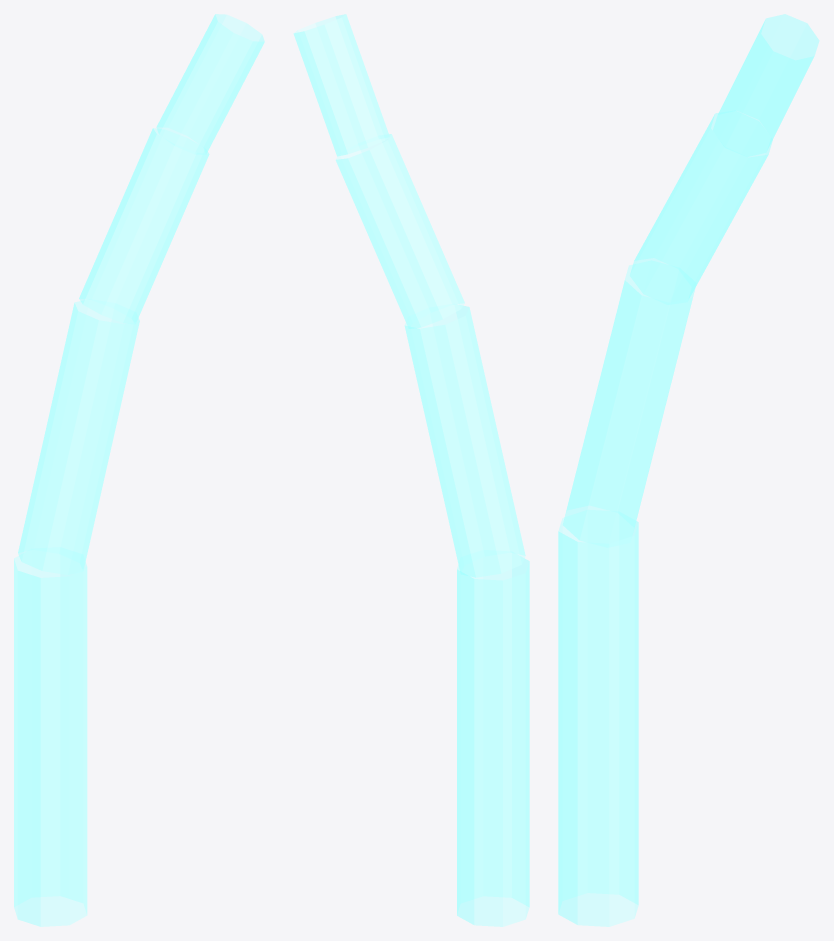
The model's file is gen1429-biomech-late.glb.
3 renders of one model, left to right at view 1: azimuth 30°, elevation 25°; view 2: azimuth 150°, elevation 25°; view 3: azimuth 330°, elevation 25°, orthographic. The views are drawn at different scales.
Visible parts, largest first — view 1: branch_d5, branch_d4, branch_d3, branch_d2; view 2: branch_d5, branch_d4, branch_d3, branch_d2; view 3: branch_d5, branch_d4, branch_d3, branch_d2.
Part boxes in pixels (box(x1,y1,x2,y2)): branch_d5: box(14, 550, 87, 926); branch_d4: box(18, 300, 139, 574); branch_d3: box(79, 128, 209, 324); branch_d2: box(156, 14, 264, 154); branch_d5: box(457, 552, 529, 926); branch_d4: box(404, 304, 525, 577); branch_d3: box(335, 134, 464, 328); branch_d2: box(293, 14, 389, 156); branch_d5: box(558, 510, 638, 926); branch_d4: box(563, 260, 695, 547); branch_d3: box(630, 111, 772, 304); branch_d2: box(713, 14, 819, 156).
Size of the model in its own units: 0.0292 by 0.1008 by 0.00867.
